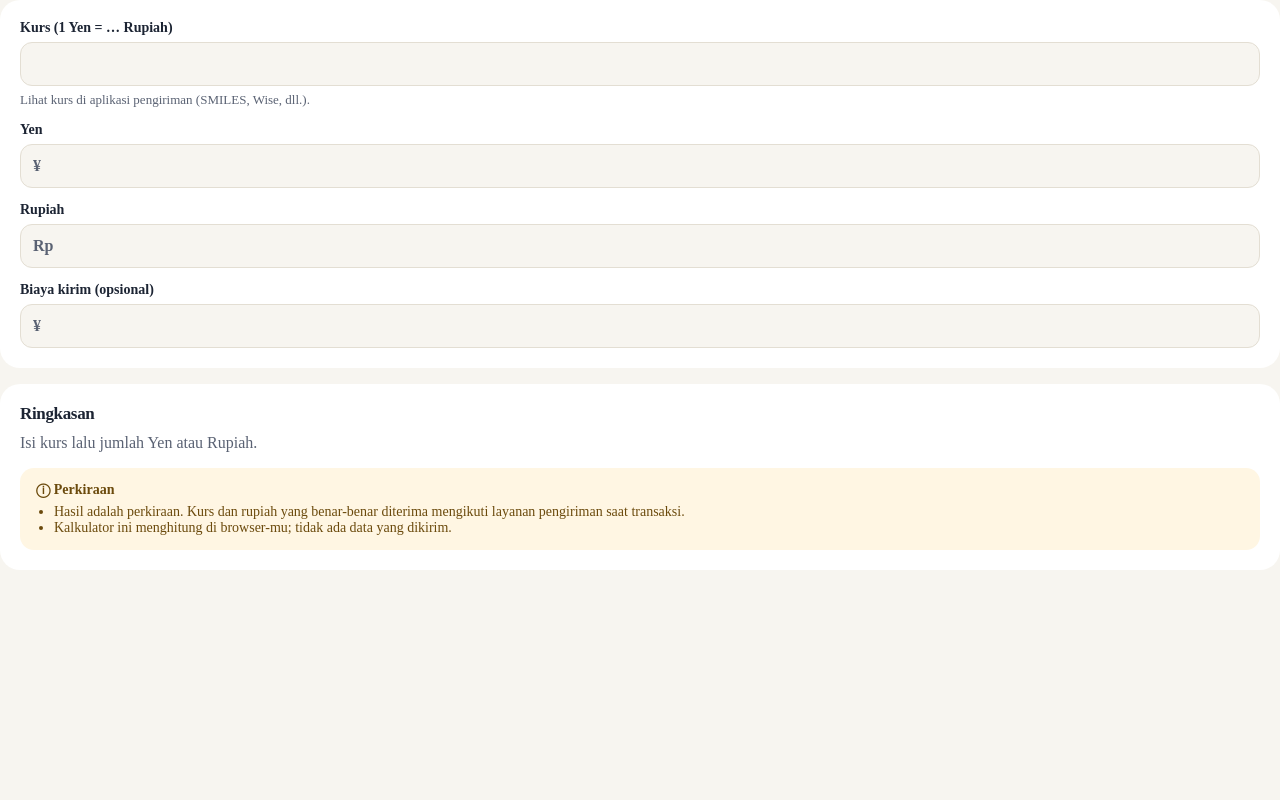
Test: Kurs › ¥50,000 dengan kurs 107.25 = Rp5.362.500
The width and height of the screenshot is (1280, 800).
Type "107.25" into the field labelled "Kurs (1 Yen = … Rupiah)" at (640, 64), box [33, 43, 1247, 85]
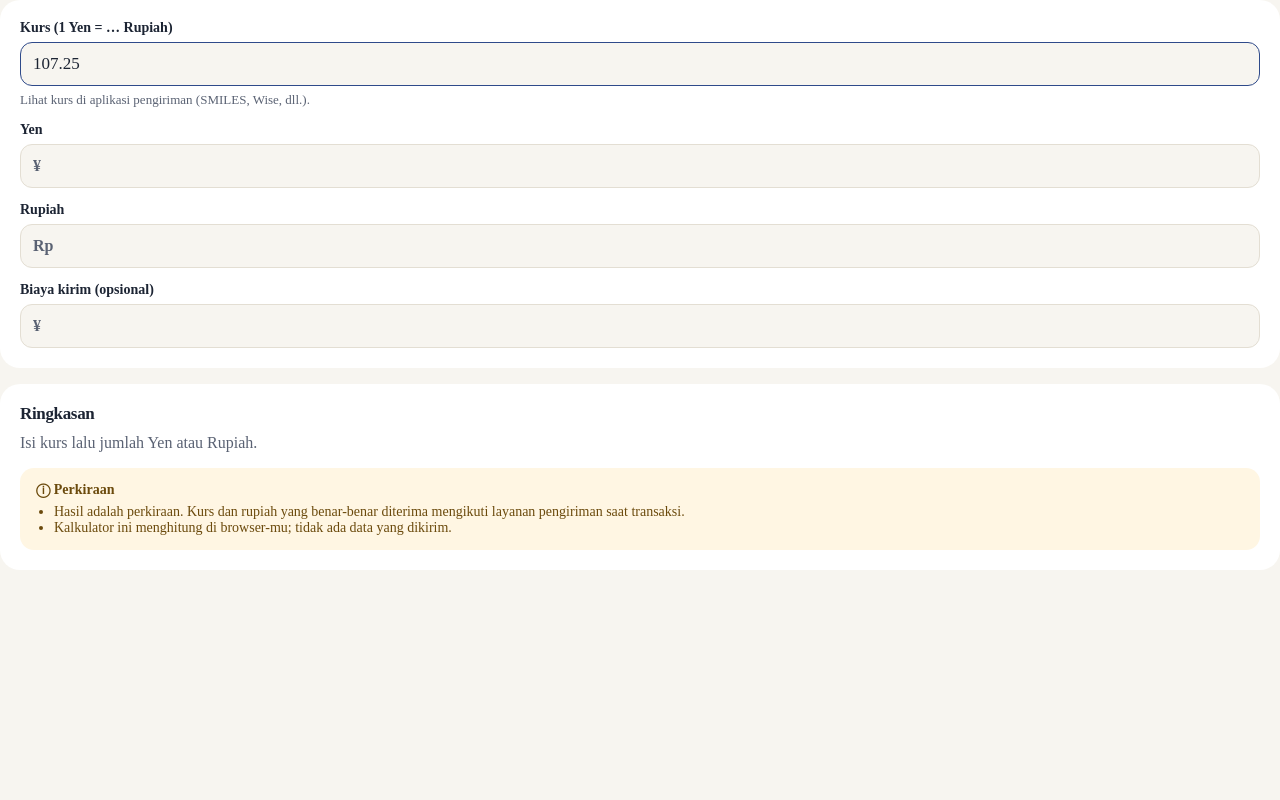
Type "50000" into the field labelled "Yen" at (647, 166), box [47, 145, 1247, 187]
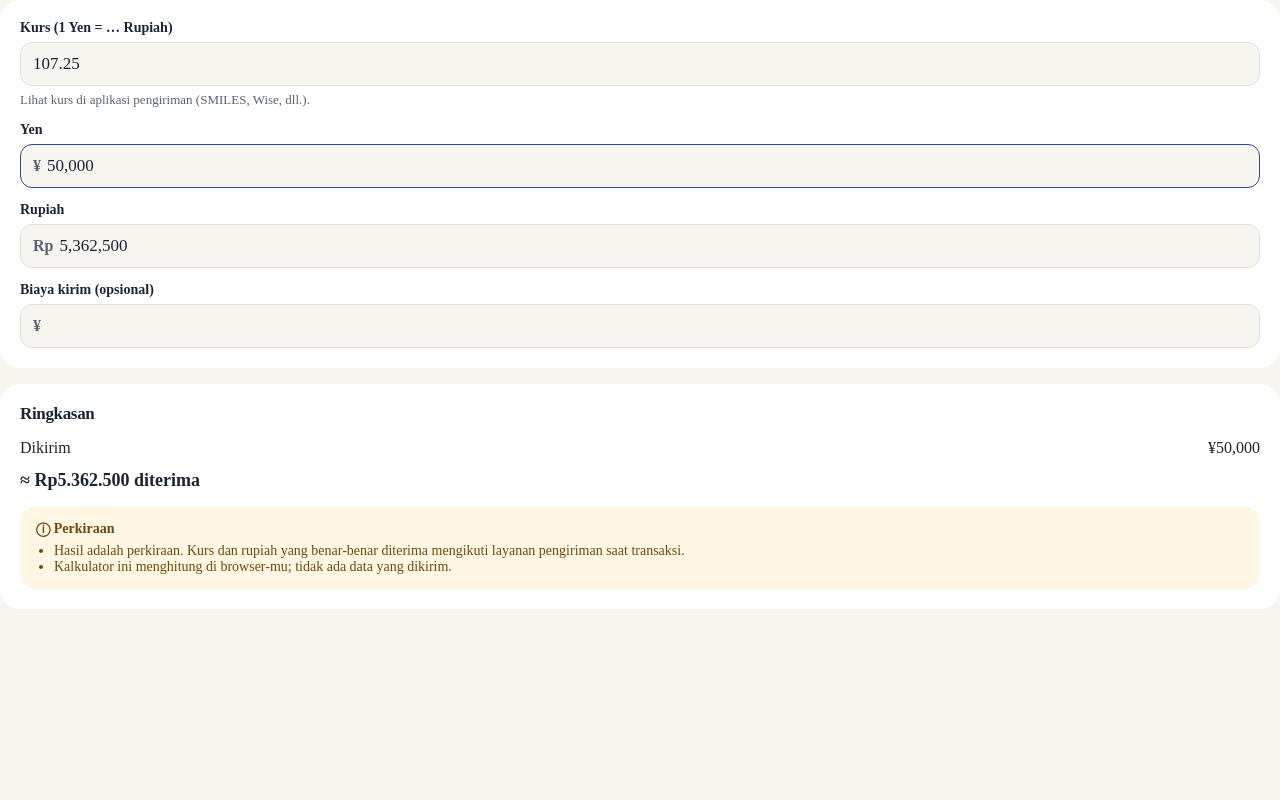
Expected: the field labelled "Rupiah" holds "5,362,500", [60, 225, 1247, 267]
Expected: the text "≈ Rp5.362.500 diterima" is shown, [20, 470, 200, 490]
